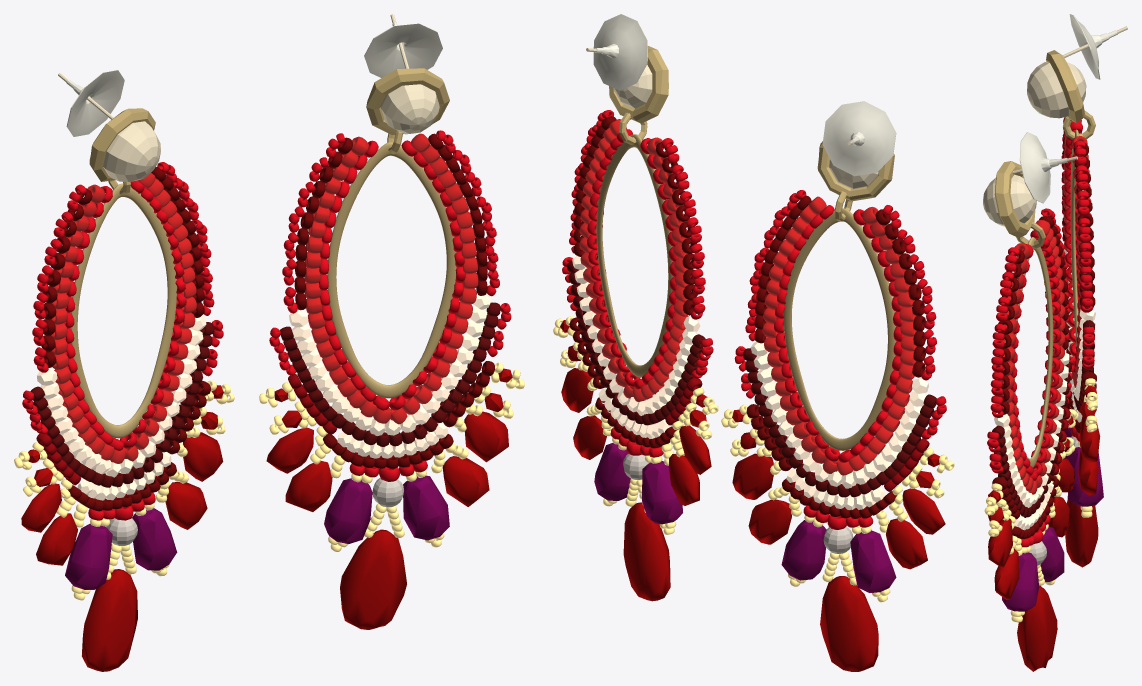
The model's file is earing4.glb.
3 views of the same model, side by side, from view 1: azimuth 30°, elevation 25°; view 2: azimuth 150°, elevation 25°; view 3: azimuth 270°, elevation 25° (orthographic). The views are drawn at different scales.
Visible parts, largest first — view 1: curve45, curve46; view 2: curve46, curve45; view 3: curve45, curve46.
Part boxes in pixels (<box>): curve45: <box>259,14,524,629</box>; curve46: <box>14,69,234,671</box>; curve46: <box>721,101,954,671</box>; curve45: <box>553,14,718,601</box>; curve45: <box>983,132,1078,671</box>; curve46: <box>1027,14,1127,567</box>.
Size of the model in its own units: 26.11 by 32.34 by 7.8.
